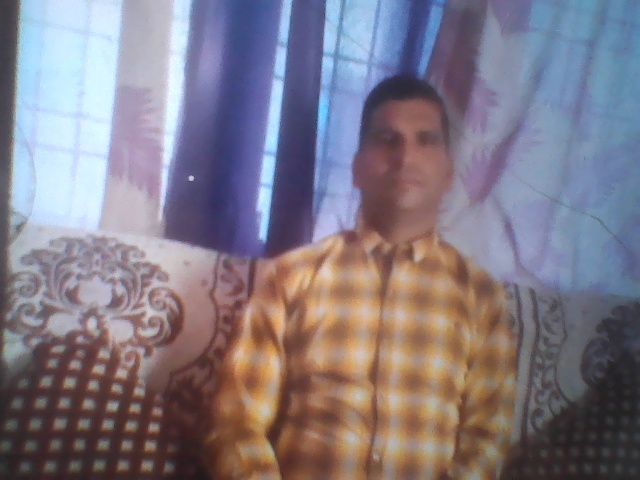fake: (344, 51, 471, 231)
